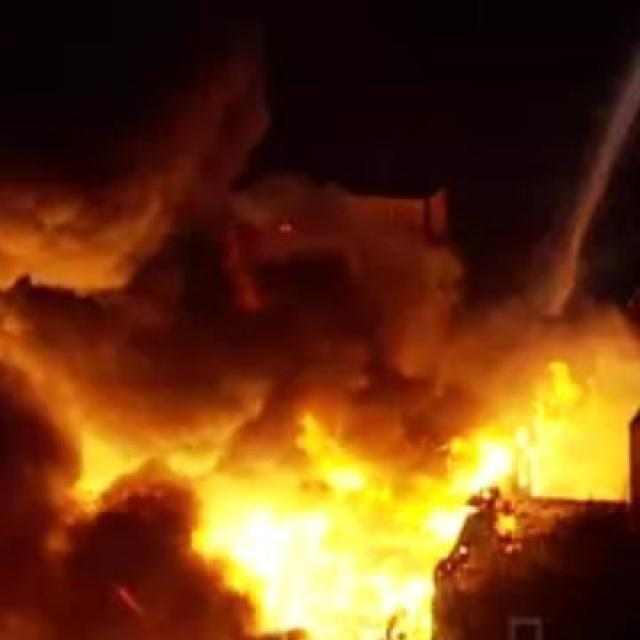Fire: (64, 386, 640, 640)
Smoke: (0, 112, 633, 394)
